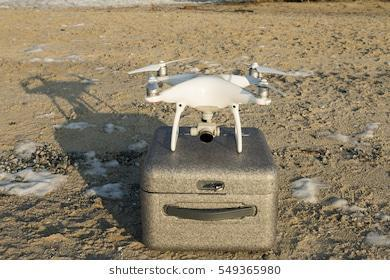drone: (122, 48, 309, 167)
